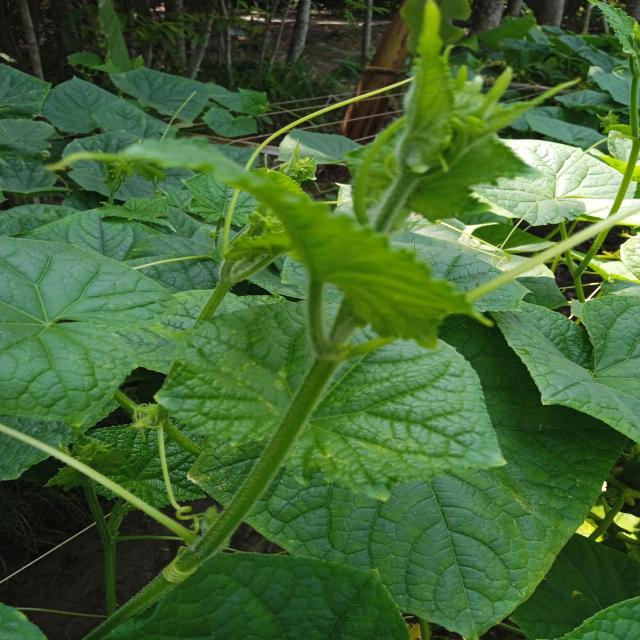cucumber_healthy: (152, 279, 512, 511), (0, 222, 186, 482), (82, 536, 421, 640), (488, 270, 640, 444)
